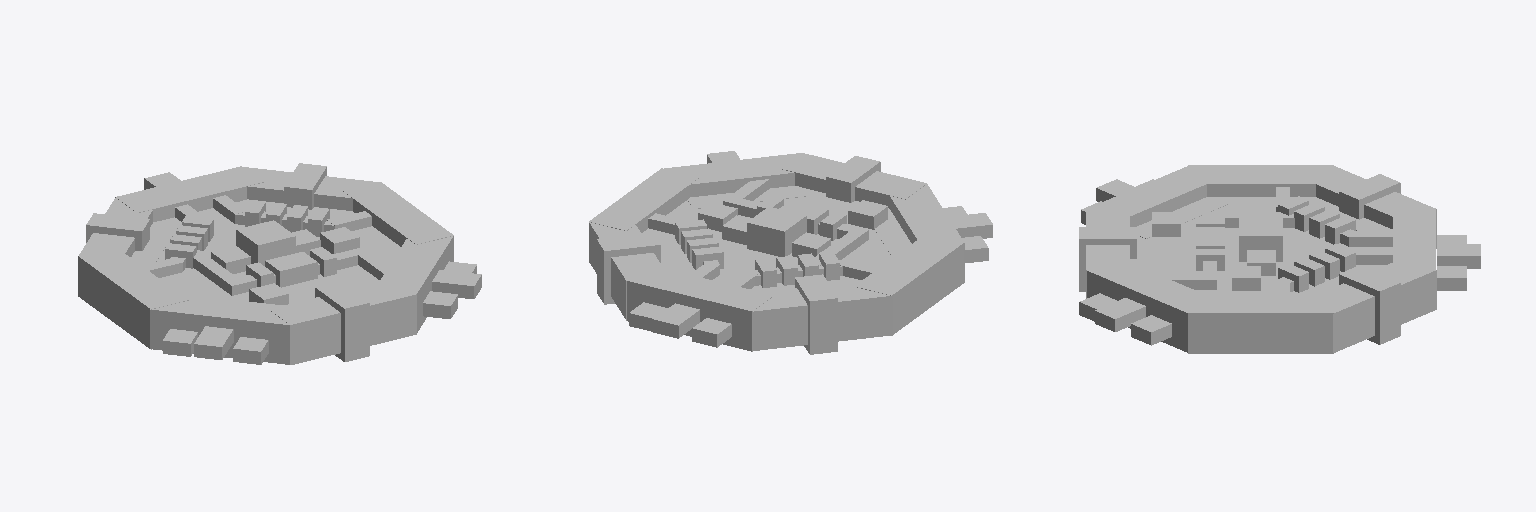
Rendered from nav_com.obj.
The picture shows the model from 3 angles: view 1: azimuth 30°, elevation 25°; view 2: azimuth 150°, elevation 25°; view 3: azimuth 270°, elevation 25°; orthographic projection.
Visible parts, largest first — view 1: cube7, cube1, cube8, cube9, cube3, cube5, cube6, cube52, cube4, cube34, cube50, cube51 (+17 smaller); view 2: cube2, cube1, cube3, cube9, cube5, cube6, cube7, cube50, cube8, cube34, cube4, cube51 (+16 smaller); view 3: cube5, cube9, cube4, cube6, cube1, cube8, cube3, cube51, cube7, cube2, cube34, cube50 (+18 smaller).
Part boxes in pixels (bbox=[...]): cube7: bbox=[269, 278, 416, 364]; cube1: bbox=[78, 247, 188, 349]; cube8: bbox=[150, 294, 289, 364]; cube9: bbox=[157, 216, 400, 303]; cube3: bbox=[115, 166, 263, 221]; cube5: bbox=[343, 182, 453, 246]; cube6: bbox=[379, 236, 453, 332]; cube52: bbox=[315, 281, 369, 361]; cube4: bbox=[243, 167, 378, 210]; cube34: bbox=[236, 220, 295, 265]; cube50: bbox=[86, 213, 149, 250]; cube51: bbox=[284, 163, 326, 209]; cube2: bbox=[751, 280, 892, 350]; cube1: bbox=[854, 233, 964, 335]; cube3: bbox=[626, 265, 773, 351]; cube9: bbox=[642, 197, 891, 291]; cube5: bbox=[589, 168, 698, 232]; cube6: bbox=[664, 153, 799, 196]; cube7: bbox=[779, 153, 926, 208]; cube50: bbox=[795, 274, 837, 354]; cube8: bbox=[890, 184, 964, 282]; cube34: bbox=[747, 207, 806, 256]; cube4: bbox=[589, 222, 662, 320]; cube51: bbox=[597, 233, 660, 304]; cube5: bbox=[1188, 295, 1333, 353]; cube9: bbox=[1152, 197, 1370, 294]; cube4: bbox=[1317, 263, 1436, 352]; cube6: bbox=[1087, 263, 1204, 352]; cube1: bbox=[1188, 165, 1333, 196]; cube8: bbox=[1090, 166, 1206, 226]; cube3: bbox=[1393, 208, 1435, 269]; cube51: bbox=[1339, 265, 1400, 344]; cube7: bbox=[1086, 208, 1129, 298]; cube2: bbox=[1316, 166, 1436, 248]; cube34: bbox=[1239, 217, 1282, 261]; cube50: bbox=[1339, 174, 1400, 219].
Size of the model in its own units: 1.55 by 0.2828 by 1.72.